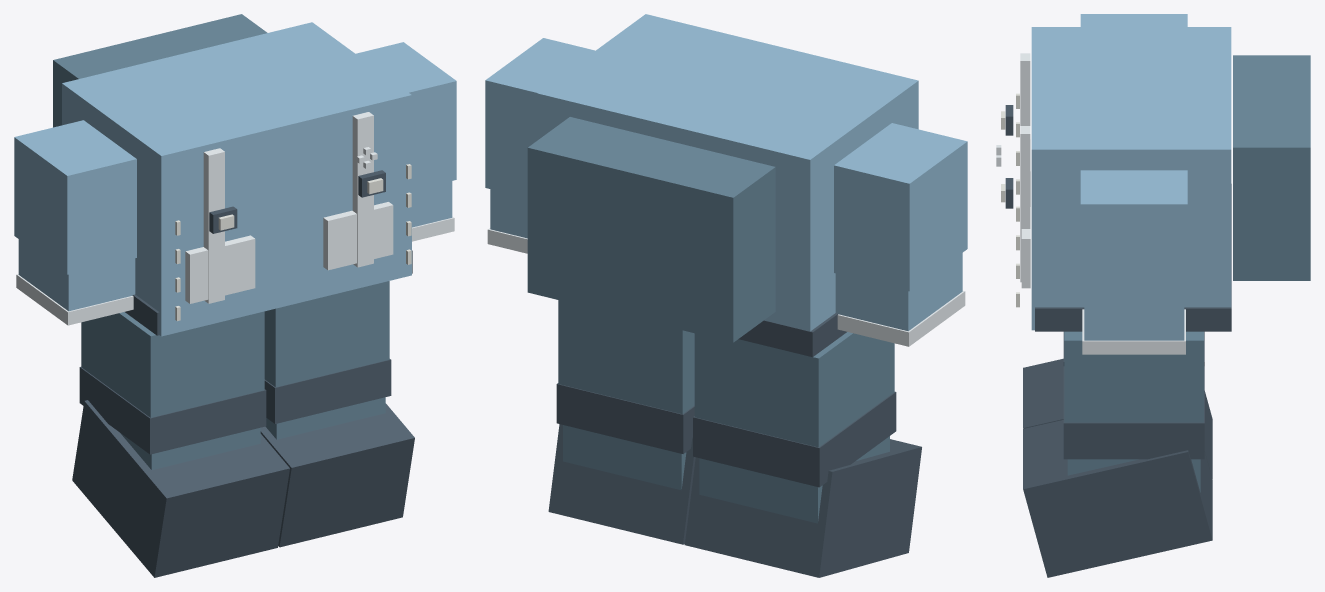
File: explorer-sky.glb
The picture shows the model from 3 angles, left to right: view 1: azimuth 30°, elevation 25°; view 2: azimuth 150°, elevation 25°; view 3: azimuth 270°, elevation 25°; orthographic projection. The views are drawn at different scales.
Parts seen in each view (by area): view 1: jacket, shoe-Right, upper-sleeve-Right, trouser-Right, shoe-Left, trouser-Left, upper-sleeve-Left, boot-cuff-Right, backpack, boot-cuff-Left, lower-sleeve-Right, pocket--1 (+9 smaller); view 2: jacket, backpack, upper-sleeve-Right, shoe-Right, trouser-Right, trouser-Left, boot-cuff-Right, upper-sleeve-Left, shoe-Left, boot-cuff-Left, lower-sleeve-Right, lower-trouser-Right (+5 smaller); view 3: jacket, shoe-Left, backpack, upper-sleeve-Left, trouser-Left, boot-cuff-Left, lower-sleeve-Left, shoe-Right, trail-belt, cuff-Left, upper-sleeve-Right, backpack-strap.001 (+3 smaller).
Part boxes in pixels (x1,y1,x2,y2): jacket: (62,22,411,336); shoe-Right: (72,400,289,577); upper-sleeve-Right: (14,120,136,274); trouser-Right: (81,311,264,417); shoe-Left: (260,403,414,547); trouser-Left: (264,281,389,387); upper-sleeve-Left: (356,42,456,190); boot-cuff-Right: (79,367,266,454); backpack: (53,14,267,127); boot-cuff-Left: (264,359,391,423); lower-sleeve-Right: (18,239,135,311); pocket--1: (185,235,255,303); jacket: (537,14,918,331); backpack: (527,117,775,342); upper-sleeve-Right: (834,123,967,291); shoe-Right: (684,439,921,577); trouser-Right: (694,332,894,447); trouser-Left: (558,300,694,414); boot-cuff-Right: (693,391,896,487); upper-sleeve-Left: (485,38,594,197); shoe-Left: (548,424,695,544); boot-cuff-Left: (556,383,694,453); lower-sleeve-Right: (835,253,962,331); lower-trouser-Right: (699,436,889,523); jacket: (1031,27,1231,330); shoe-Left: (1023,420,1212,577); backpack: (1233,55,1310,280); upper-sleeve-Left: (1080,170,1187,303); trouser-Left: (1064,331,1203,422); boot-cuff-Left: (1063,366,1204,459); lower-sleeve-Left: (1084,303,1184,340); shoe-Right: (1023,358,1212,478); trail-belt: (1035,184,1231,331); cuff-Left: (1082,309,1185,354); upper-sleeve-Right: (1080,14,1187,26); backpack-strap.001: (1020,126,1030,282).
Bounding box in the file's own units: 1.07 × 1.13 × 0.748.
